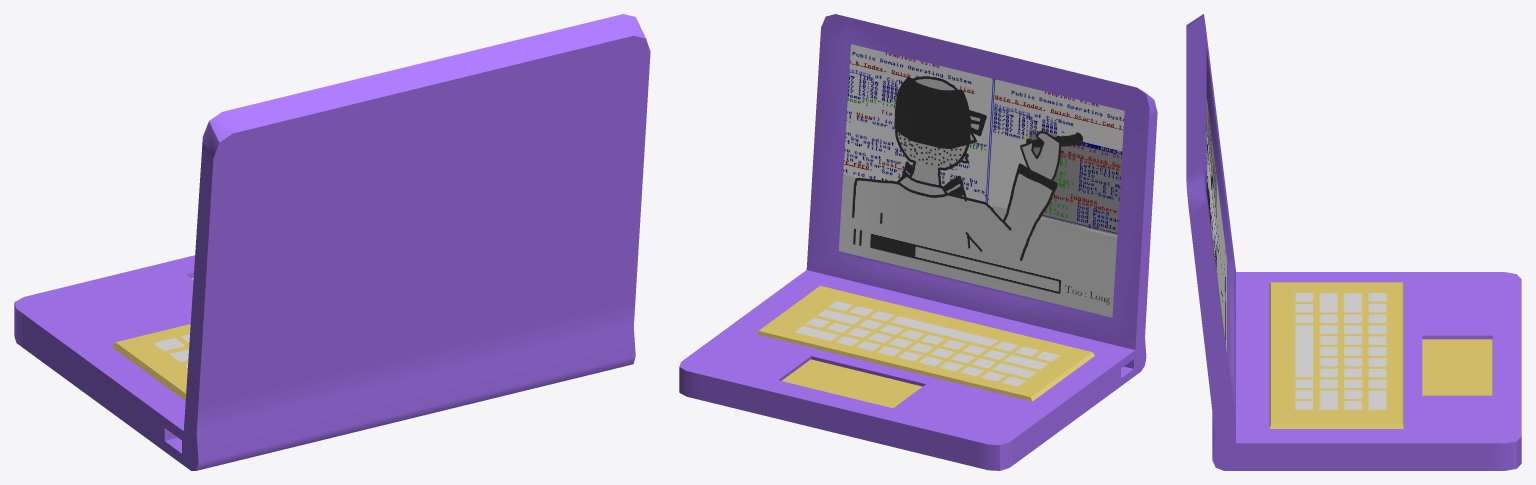
Rendered from laptop 1.fbx.
3 renders of one model, left to right at view 1: azimuth 30°, elevation 25°; view 2: azimuth 150°, elevation 25°; view 3: azimuth 270°, elevation 25°, orthographic. The views are drawn at different scales.
Visible parts, largest first — view 1: laptop1; view 2: laptop1; view 3: laptop1.
Boxes of the visible parts, bbox=[...] form: laptop1: bbox=[14, 14, 650, 470]; laptop1: bbox=[679, 14, 1157, 470]; laptop1: bbox=[1186, 14, 1521, 470].
Size of the model in its own units: 16.77 by 13.35 by 13.85.
1 material, 1 textured.
